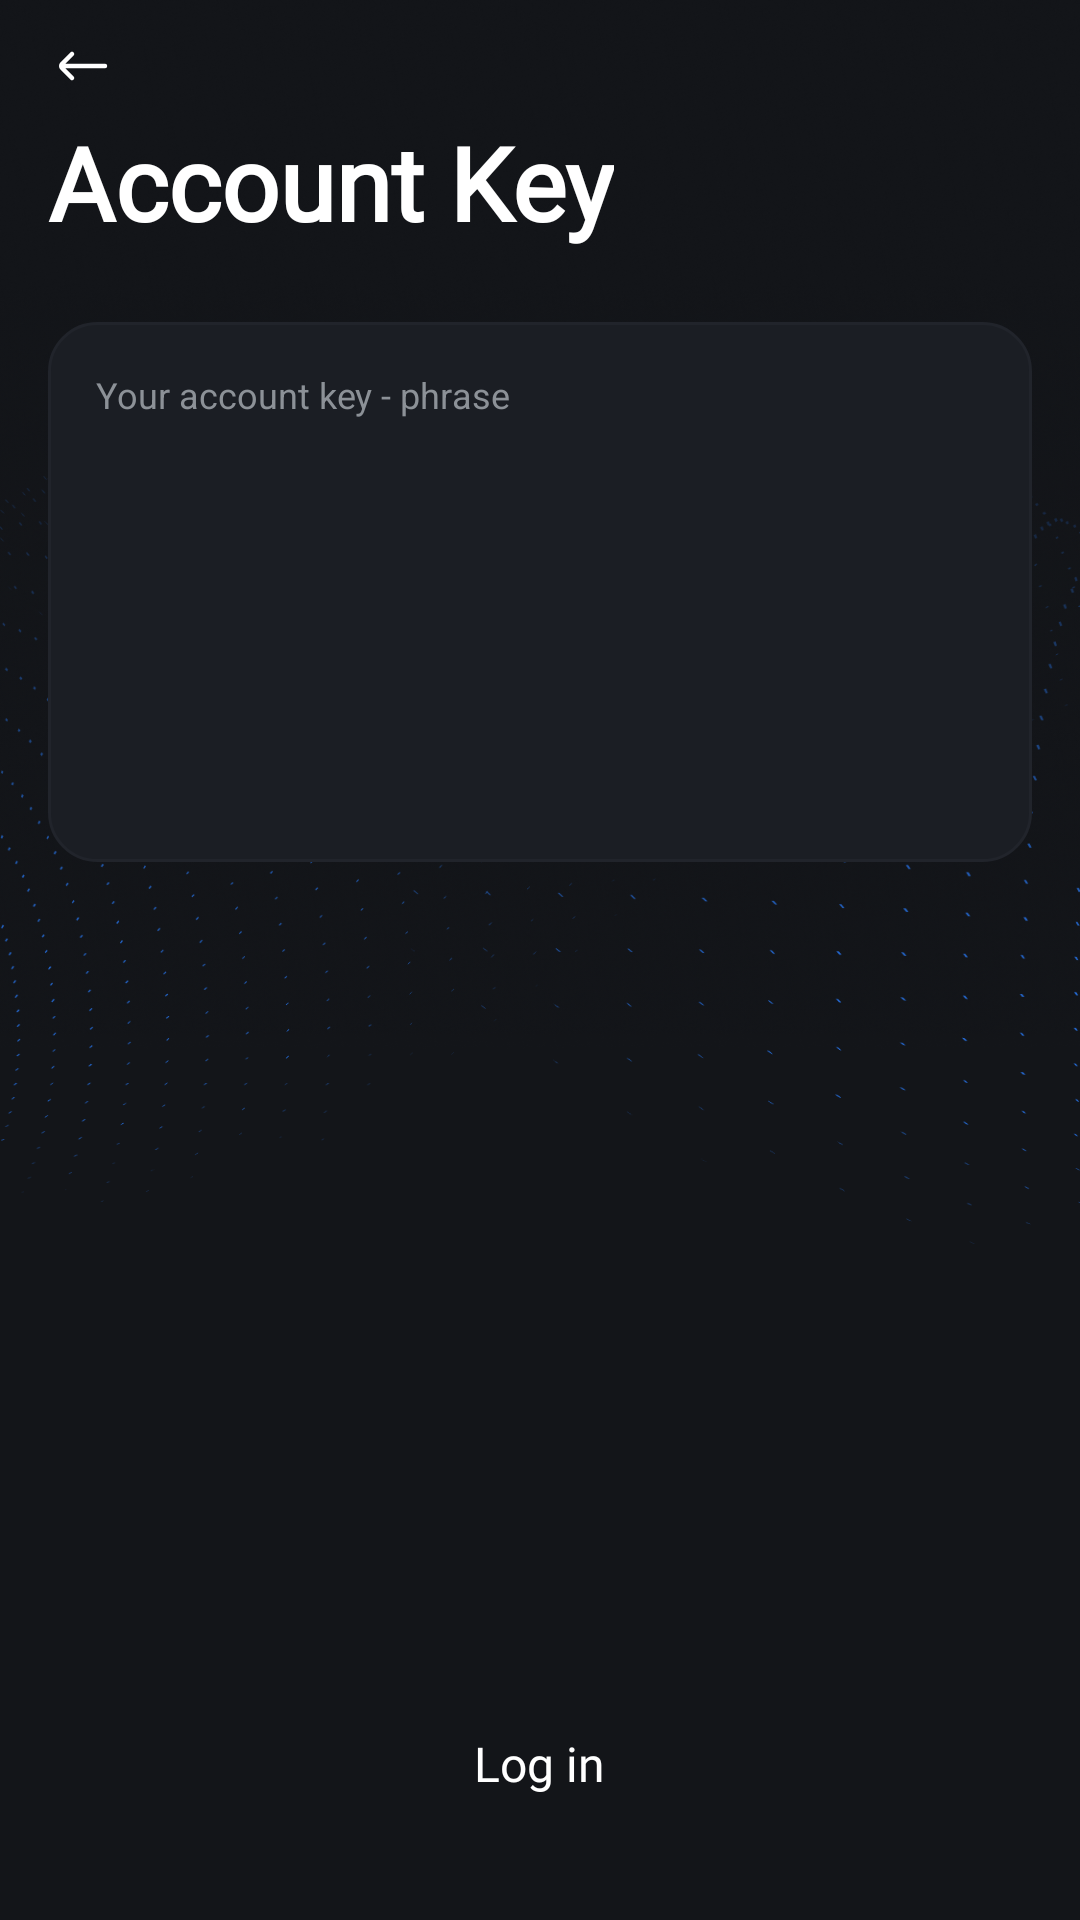

Icons on this 1080px x 1920px Android screen, each with its box as (left=x1, top=y1, right=x2, bottom=y2):
arrow left: (left=59, top=51, right=107, bottom=81)
